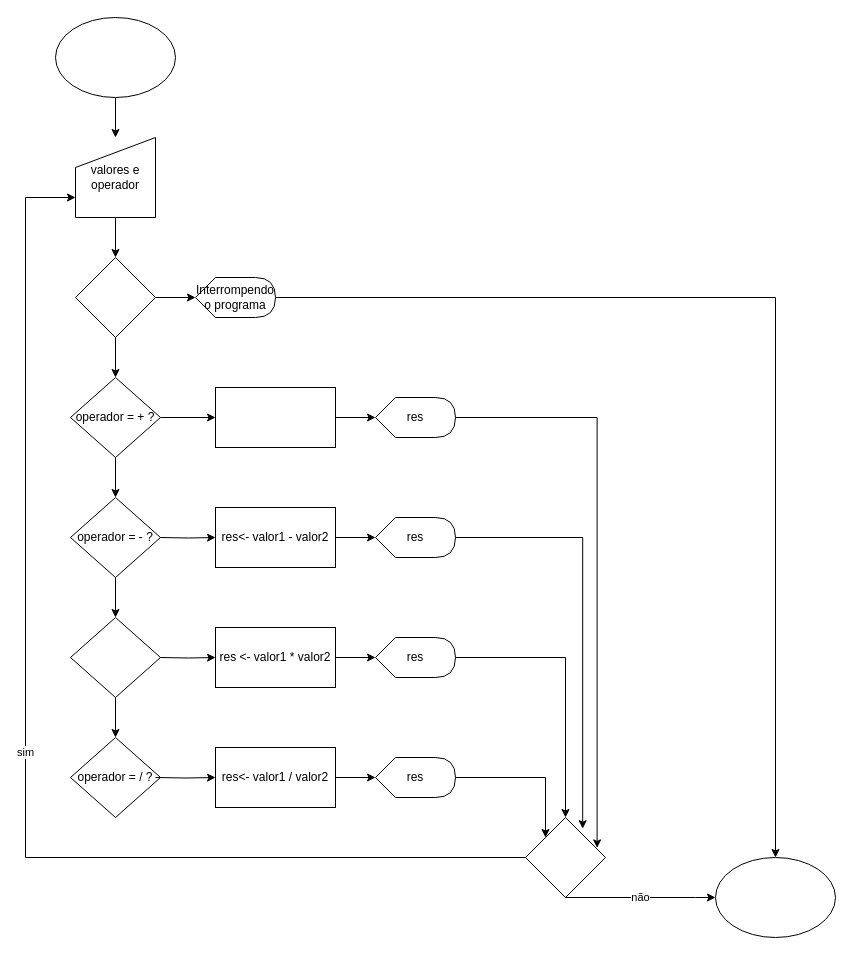
The diagram is 853 pixels wide and 955 high, and some of its shapes have lost their labels. Here are the shapes that lost their labels. From the top down, the centre of each, then its label:
point (115, 57): Início
point (115, 297): Algum dos valores = 30000?
point (275, 417): res <- valor1 + valor2
point (115, 657): operador = * ?
point (565, 857): deseja continuar no programa?
point (775, 897): Fim
